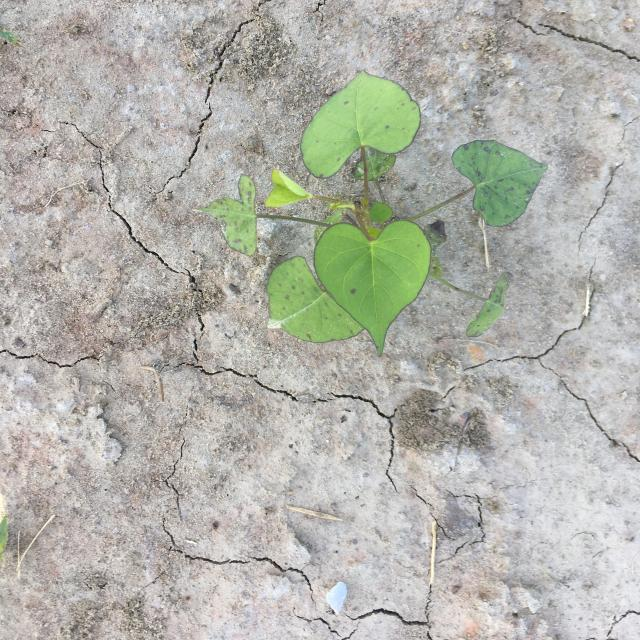MorningGlory: (193, 68, 550, 358)
